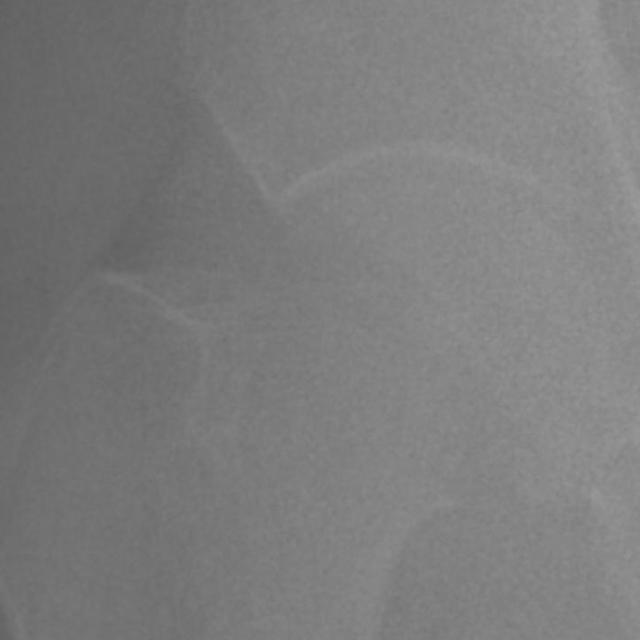Fitted_femural_head: (351, 170, 432, 351)
